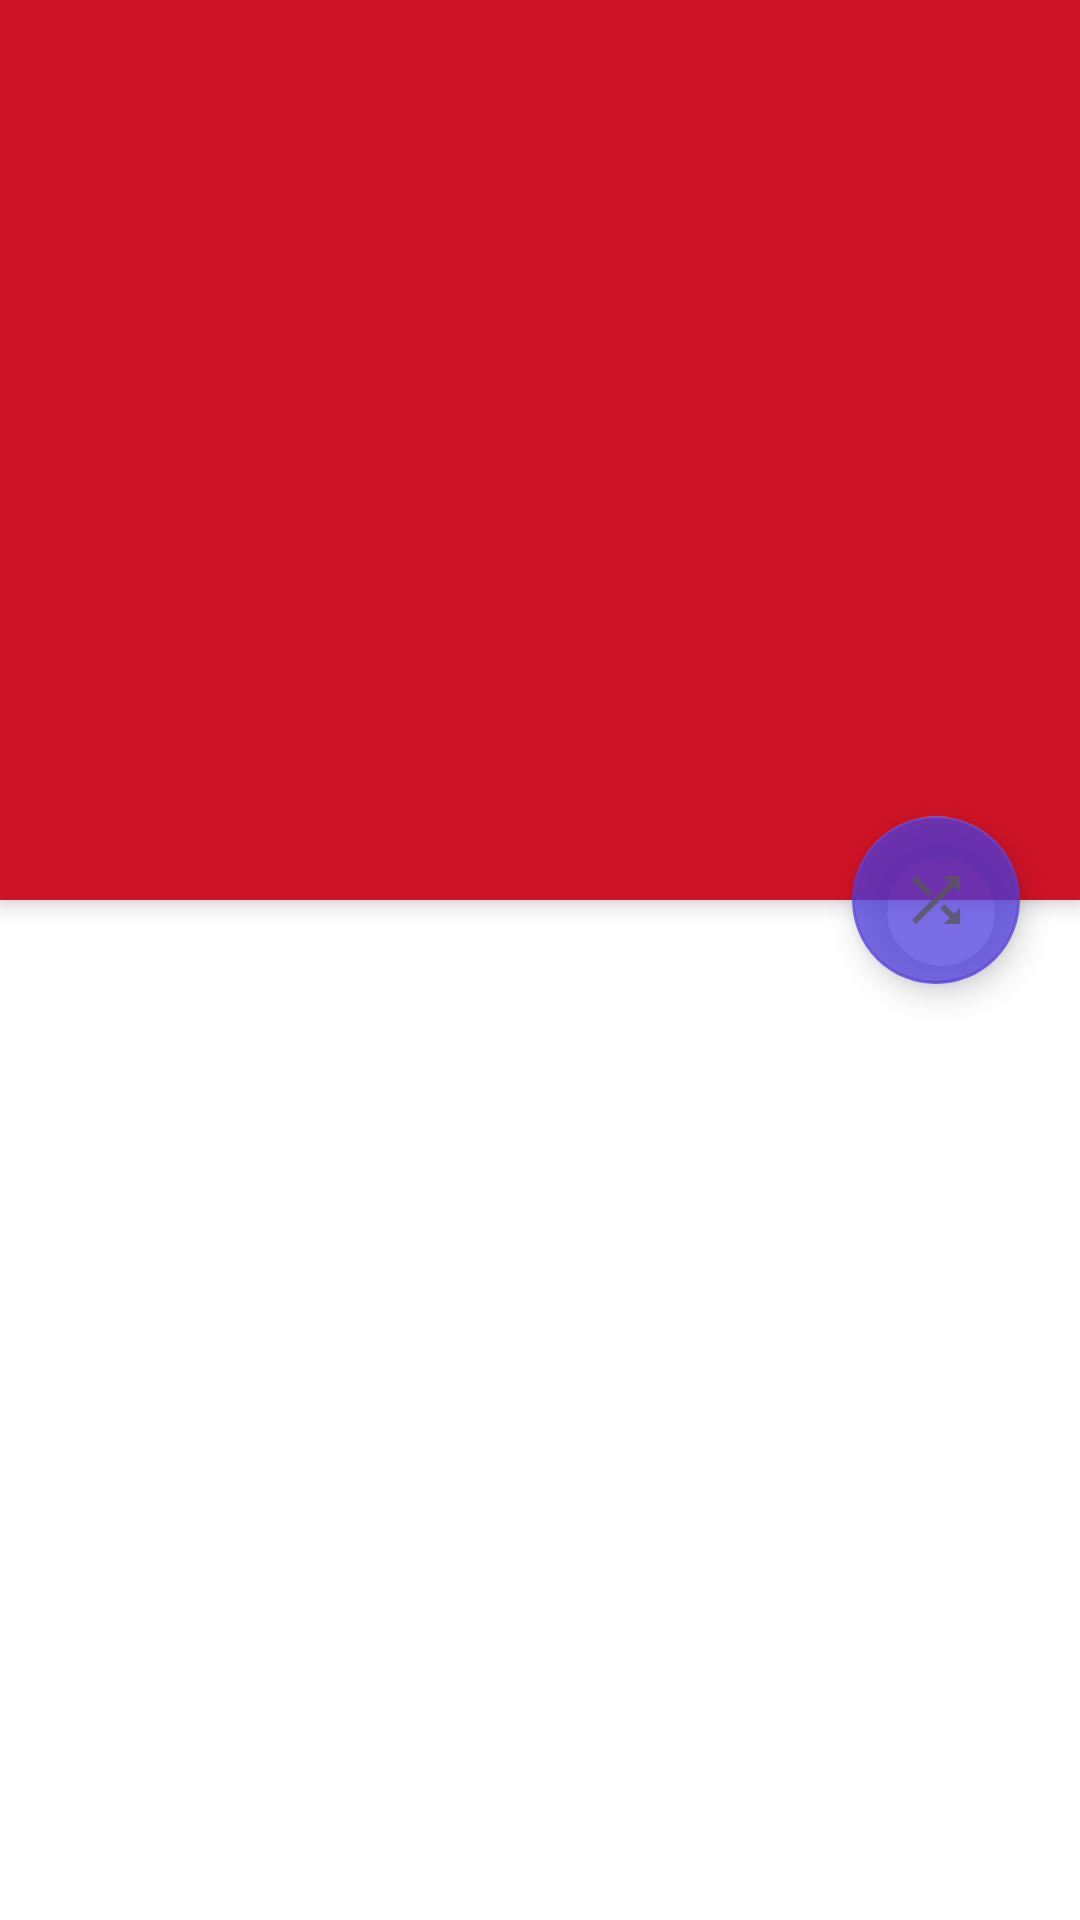

Icon click points for this 1080 x 1920 phone screenshot, format [x,y]:
shuffle diabled: [936,900]
